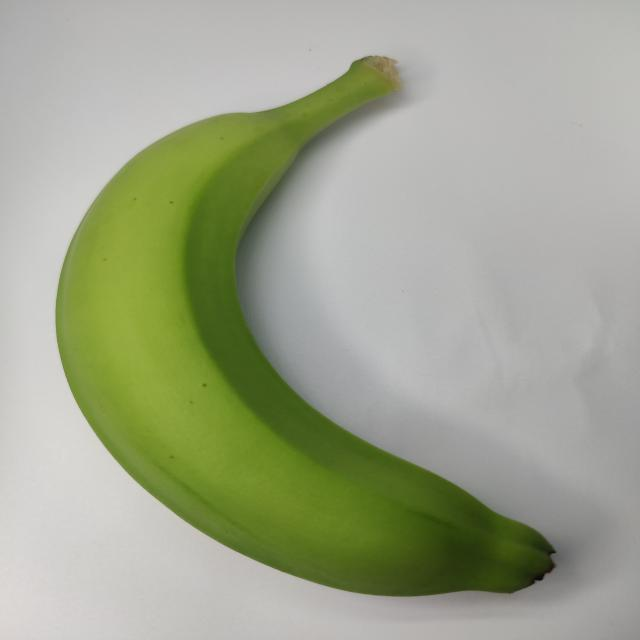raw: (39, 36, 586, 621)
